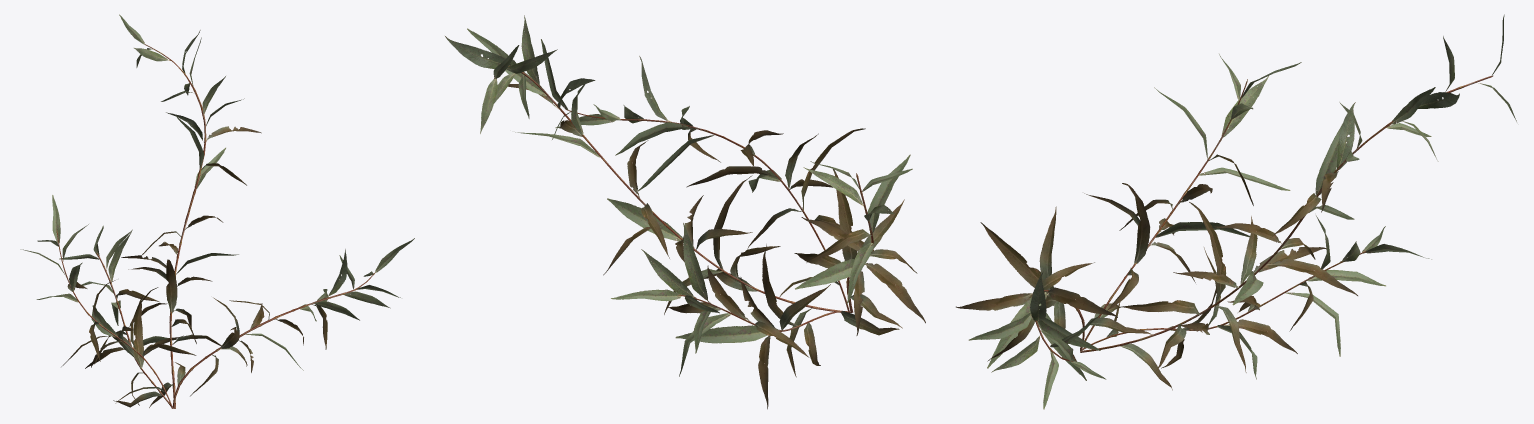
The model's file is shrub_02_b_LOD1.glb.
The picture shows the model from 3 angles, left to right: view 1: azimuth 30°, elevation 25°; view 2: azimuth 150°, elevation 25°; view 3: azimuth 270°, elevation 25°; orthographic projection. The views are drawn at different scales.
Visible parts, largest first — view 1: shrub_02_b_LOD1__lod0; view 2: shrub_02_b_LOD1__lod0; view 3: shrub_02_b_LOD1__lod0.
Boxes of the visible parts, x1,y1,x2,y2 form: shrub_02_b_LOD1__lod0: (20, 14, 414, 408); shrub_02_b_LOD1__lod0: (445, 15, 925, 409); shrub_02_b_LOD1__lod0: (956, 14, 1516, 409).
Size of what is drawn, in the model's own units: 1.11 by 0.9643 by 1.13.
1 material, 1 textured.
